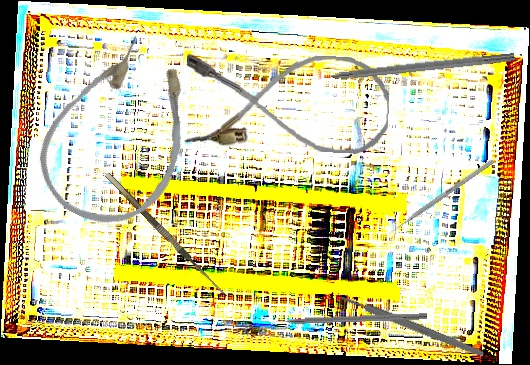Cannula: (20, 19, 222, 246), (182, 48, 392, 156)
Hook Surgical: (104, 165, 235, 300), (305, 50, 516, 84), (267, 311, 428, 325)
Pusher: (383, 158, 495, 239)
Scalpel Handle: (337, 292, 487, 359)
